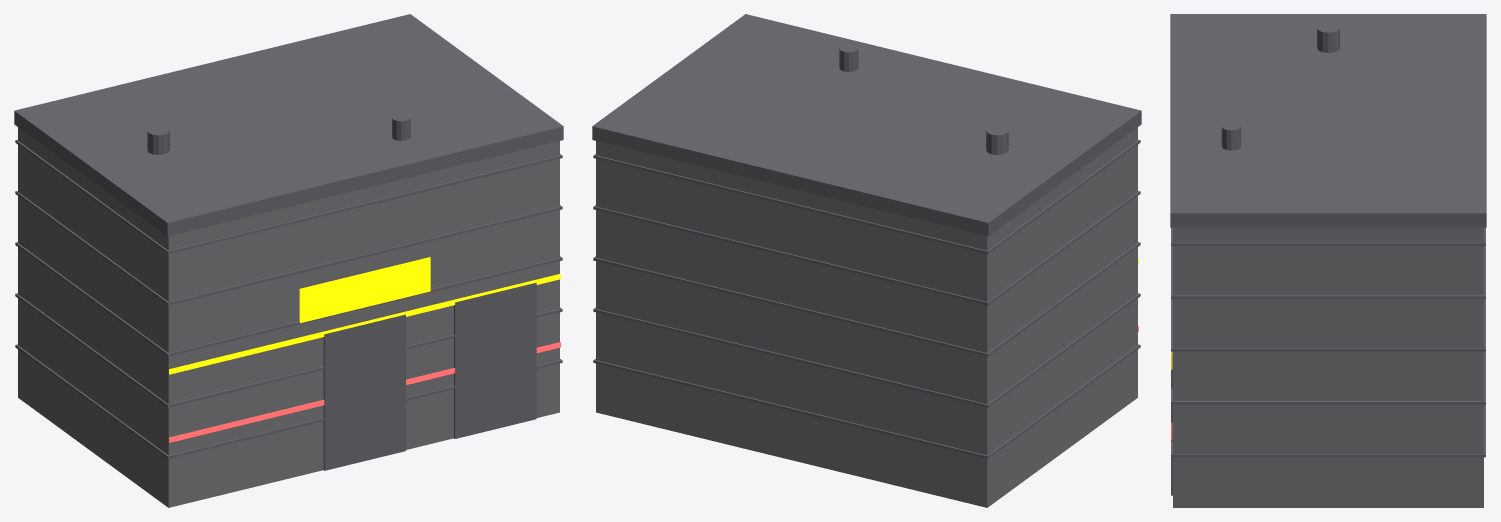
Rendered from HARBOR_BLD_Warehouse_LG.glb.
3 renders of one model, left to right at view 1: azimuth 30°, elevation 25°; view 2: azimuth 150°, elevation 25°; view 3: azimuth 270°, elevation 25°, orthographic. The views are drawn at different scales.
Visible parts, largest first — view 1: HARBOR_BLD_Warehouse_LG; view 2: HARBOR_BLD_Warehouse_LG; view 3: HARBOR_BLD_Warehouse_LG.
Boxes of the visible parts, x1=… form: HARBOR_BLD_Warehouse_LG: x1=14, y1=14, x2=563, y2=507; HARBOR_BLD_Warehouse_LG: x1=592, y1=14, x2=1141, y2=507; HARBOR_BLD_Warehouse_LG: x1=1170, y1=14, x2=1486, y2=507.
Size of the model in its own units: 24.3 by 17.95 by 16.3.
